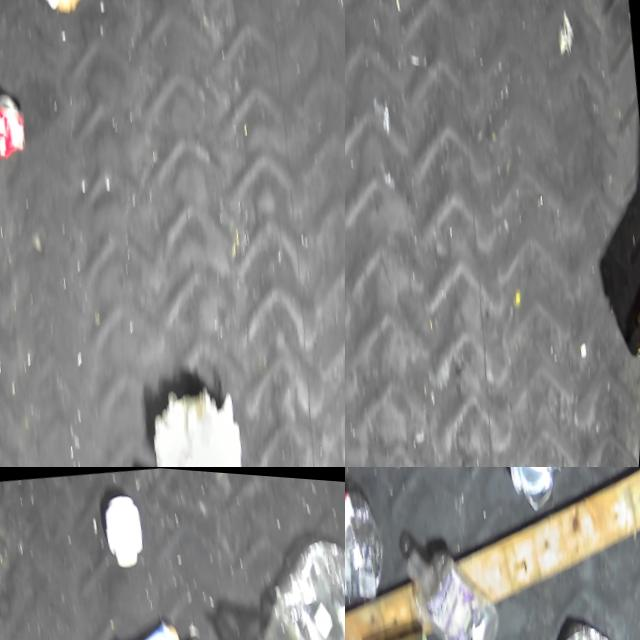can: (547, 605, 640, 640), (0, 83, 34, 163), (501, 467, 564, 508), (365, 616, 448, 640)
plastic_bottle: (397, 521, 522, 640), (345, 471, 401, 621)
